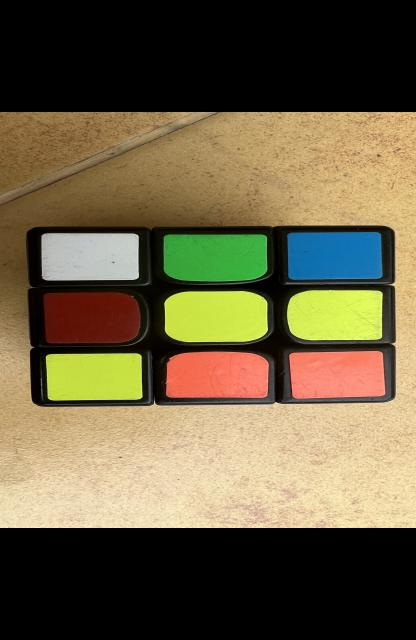Blue: (286, 232, 381, 279)
Green: (163, 235, 266, 282)
Orange: (165, 352, 268, 398), (288, 351, 385, 399)
Red: (41, 292, 140, 344)
White: (40, 233, 138, 281)
Yellow: (163, 291, 268, 342), (286, 290, 381, 340), (45, 353, 141, 400)
